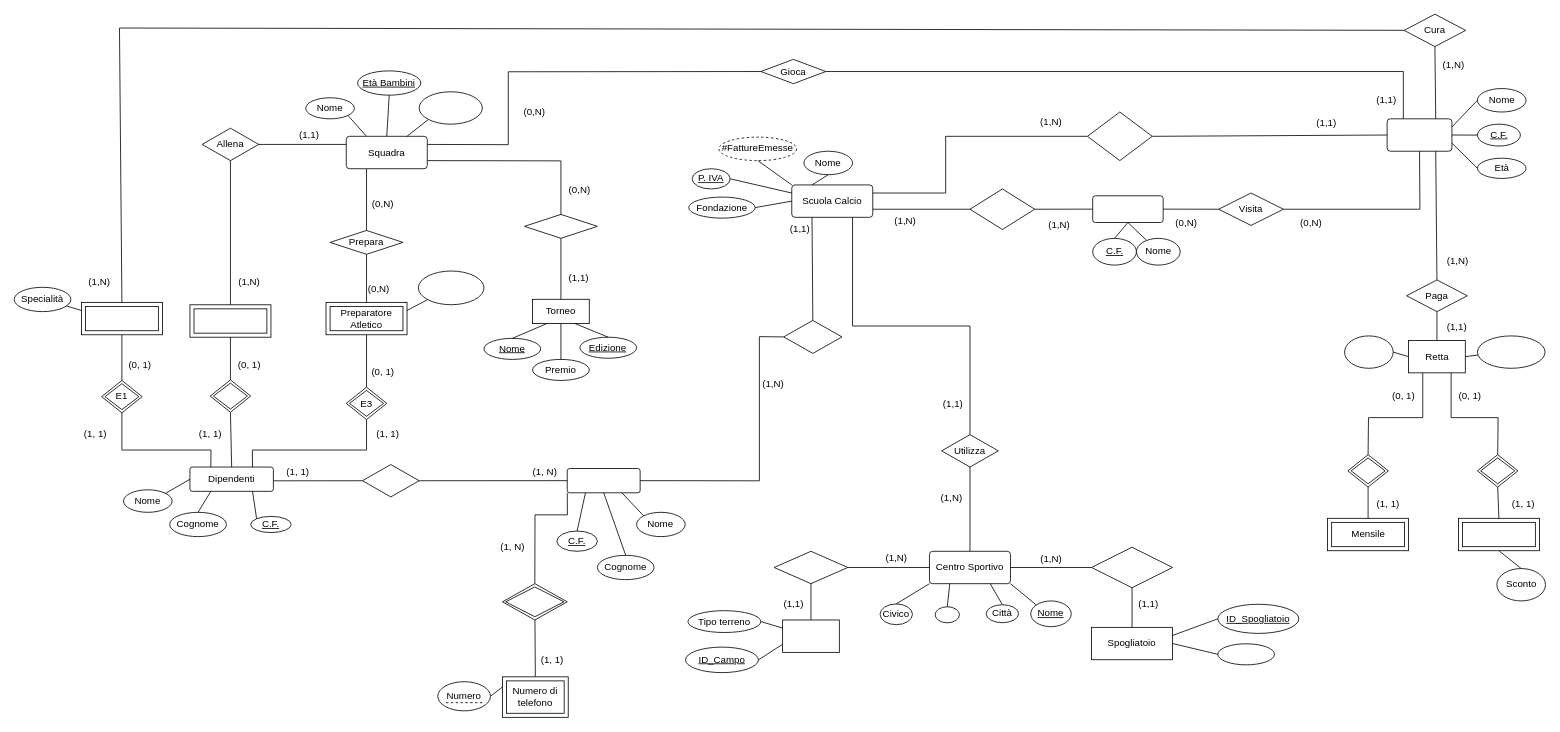
The diagram is 1560 pixels wide and 732 high, and some of its shapes have lost their labels. The shapes that lost their labels are listed below. From the top down, each one's box as (x1, y1, x2, y2) in pixels, then its label:
(418, 91, 482, 124): Categoria
(1087, 111, 1152, 161): Iscritto
(1386, 118, 1452, 151): Bambino
(524, 214, 597, 238): Vince
(969, 188, 1035, 229): Collabora
(1092, 195, 1163, 223): Medico Sportivo
(418, 270, 484, 305): Allenatore Portieri
(81, 302, 162, 335): Fisioterapista
(189, 304, 271, 337): Allenatore
(783, 320, 842, 353): Possiede
(1344, 335, 1393, 368): Importo
(1477, 335, 1545, 368): Progressivo
(209, 379, 251, 412): E2
(362, 464, 419, 497): Stipendia
(566, 468, 640, 493): Presidente
(1347, 454, 1388, 487): E4
(1477, 454, 1518, 487): E5
(1458, 518, 1539, 551): Annuale
(773, 550, 848, 584): Composto
(1091, 546, 1173, 588): Dispone di
(502, 583, 567, 620): Ha
(934, 606, 959, 623): Via
(782, 619, 839, 652): Campo
(1217, 643, 1275, 665): #docce
